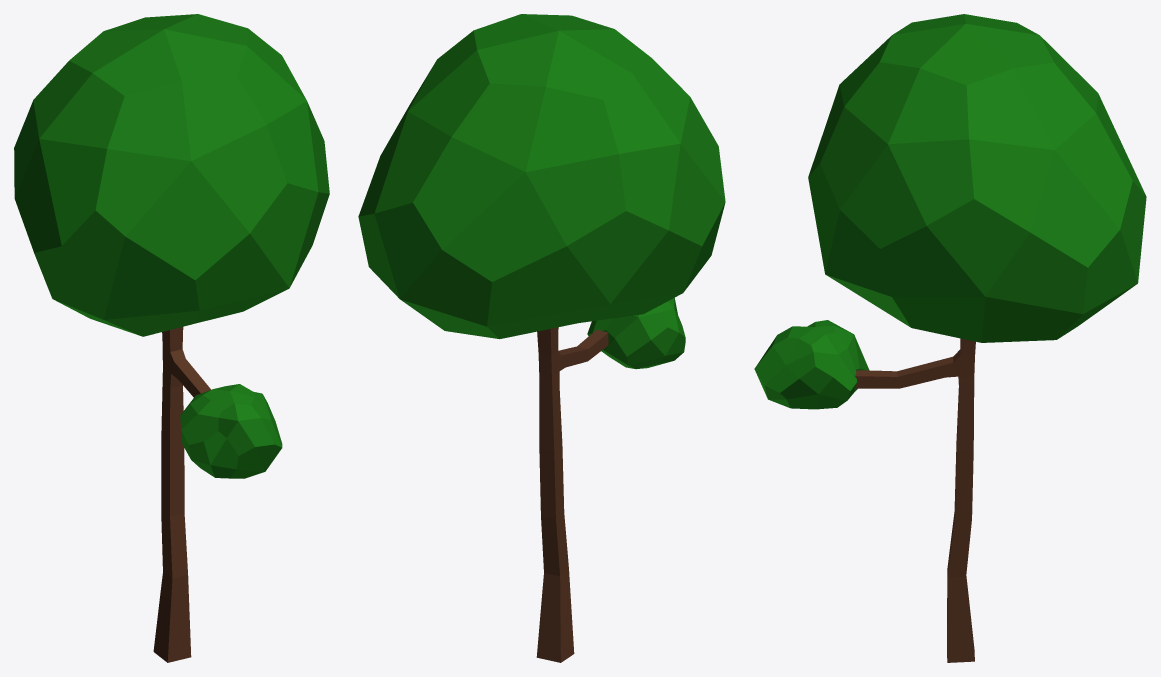
File: arvore1.fbx
3 views of the same model, side by side, from view 1: azimuth 30°, elevation 25°; view 2: azimuth 150°, elevation 25°; view 3: azimuth 270°, elevation 25° (orthographic).
Visible parts, largest first — view 1: Icosphere.007; view 2: Icosphere.007; view 3: Icosphere.007.
Part boxes in pixels (bbox=[...]): Icosphere.007: bbox=[14, 14, 329, 662]; Icosphere.007: bbox=[358, 14, 725, 662]; Icosphere.007: bbox=[754, 14, 1146, 662].
Bounding box in the file's own units: 2.77 × 5.88 × 3.31.
